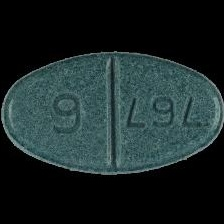65162-767: (0, 0, 224, 224)
